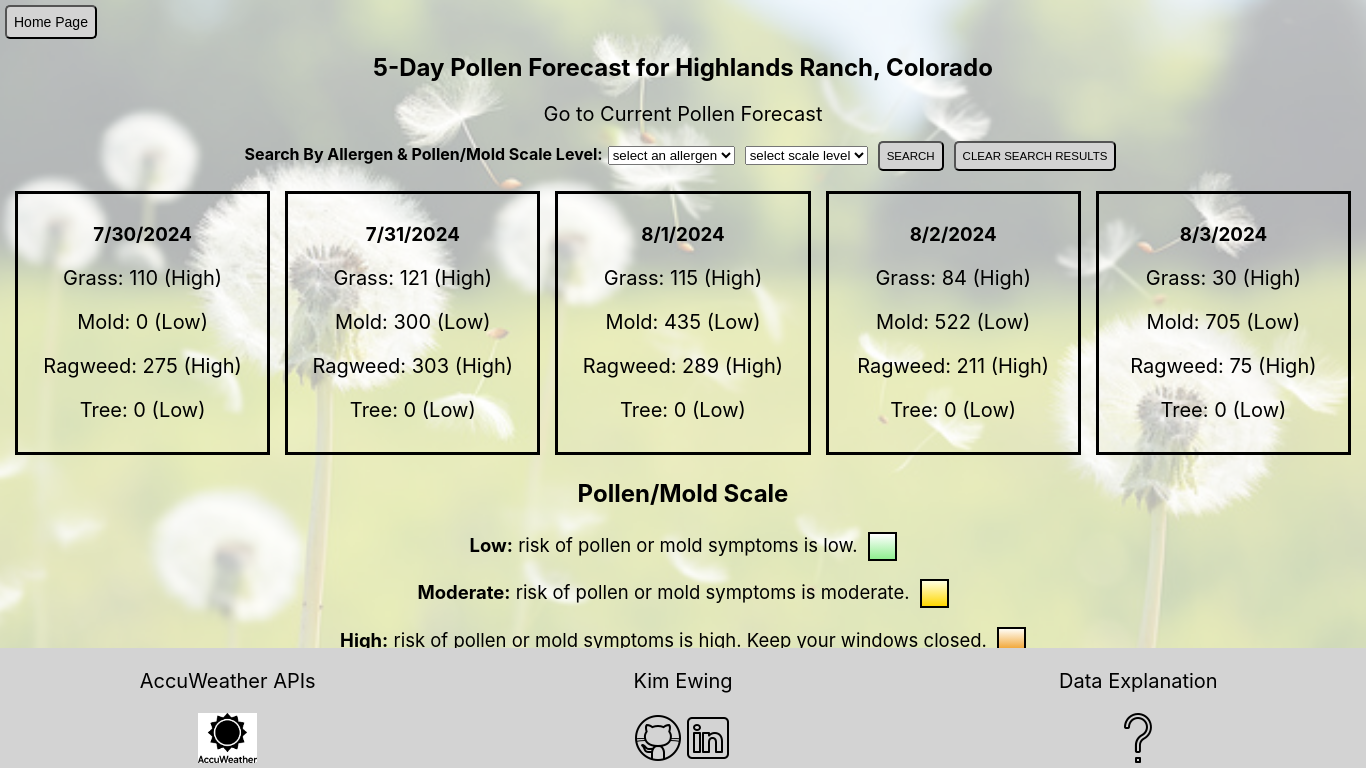
Scenario: 5-Day Pollen Forecast Page Tests › should clear the search results when the clear search button is clicked and display five pollen forecast cards
Select "Grass" in the dropdown with class "allergen-drop-down" at [672, 156], box [608,146,735,165]
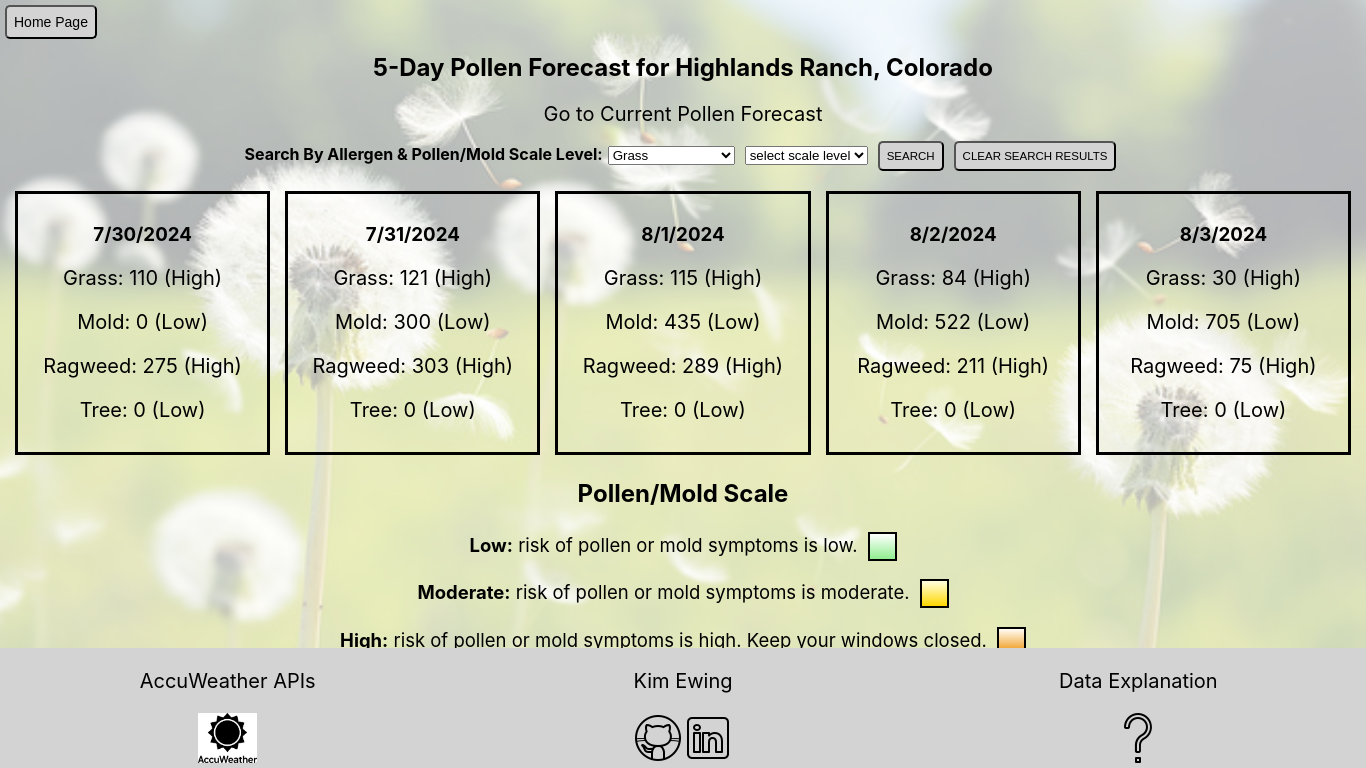
Select "High" in the 2nd dropdown at [807, 156], box [745,146,868,165]
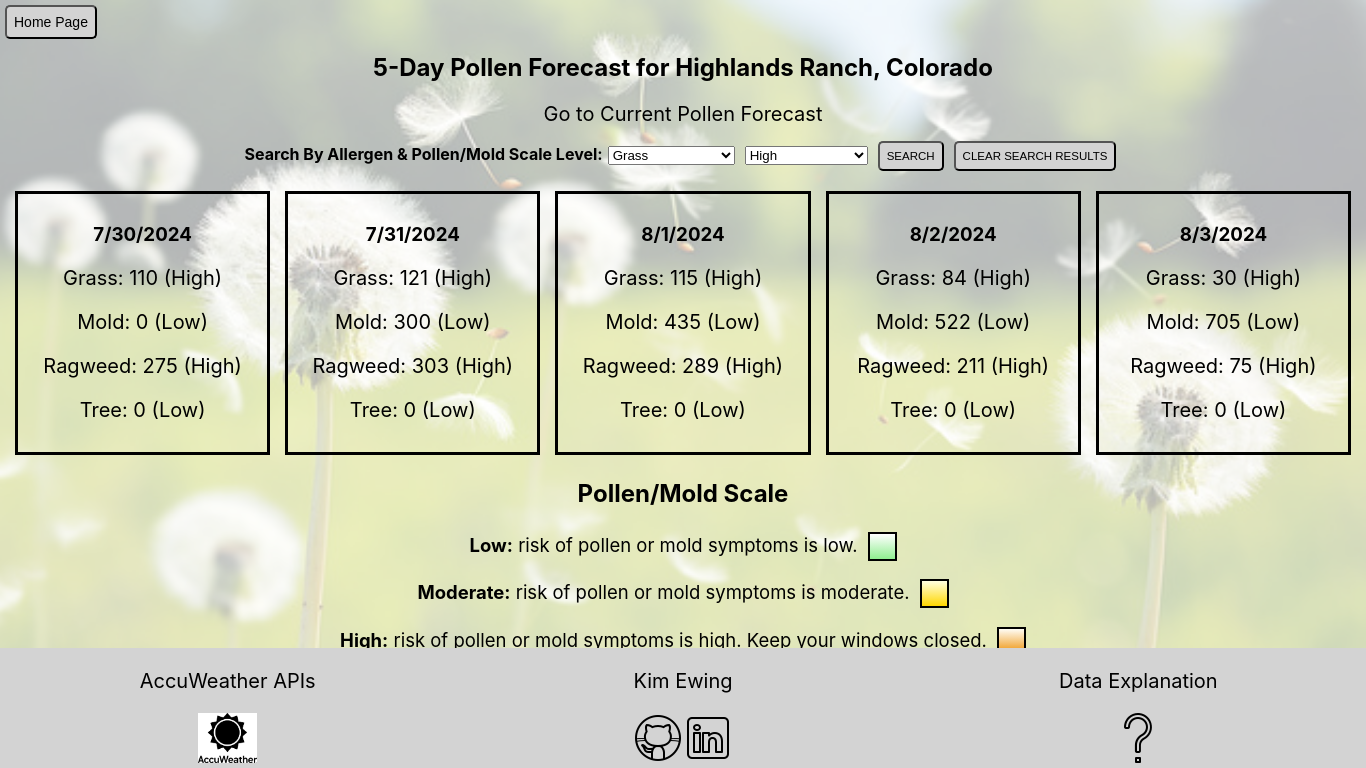
Click the button with class "search-button".
click(911, 156)  # box [878,141,944,171]
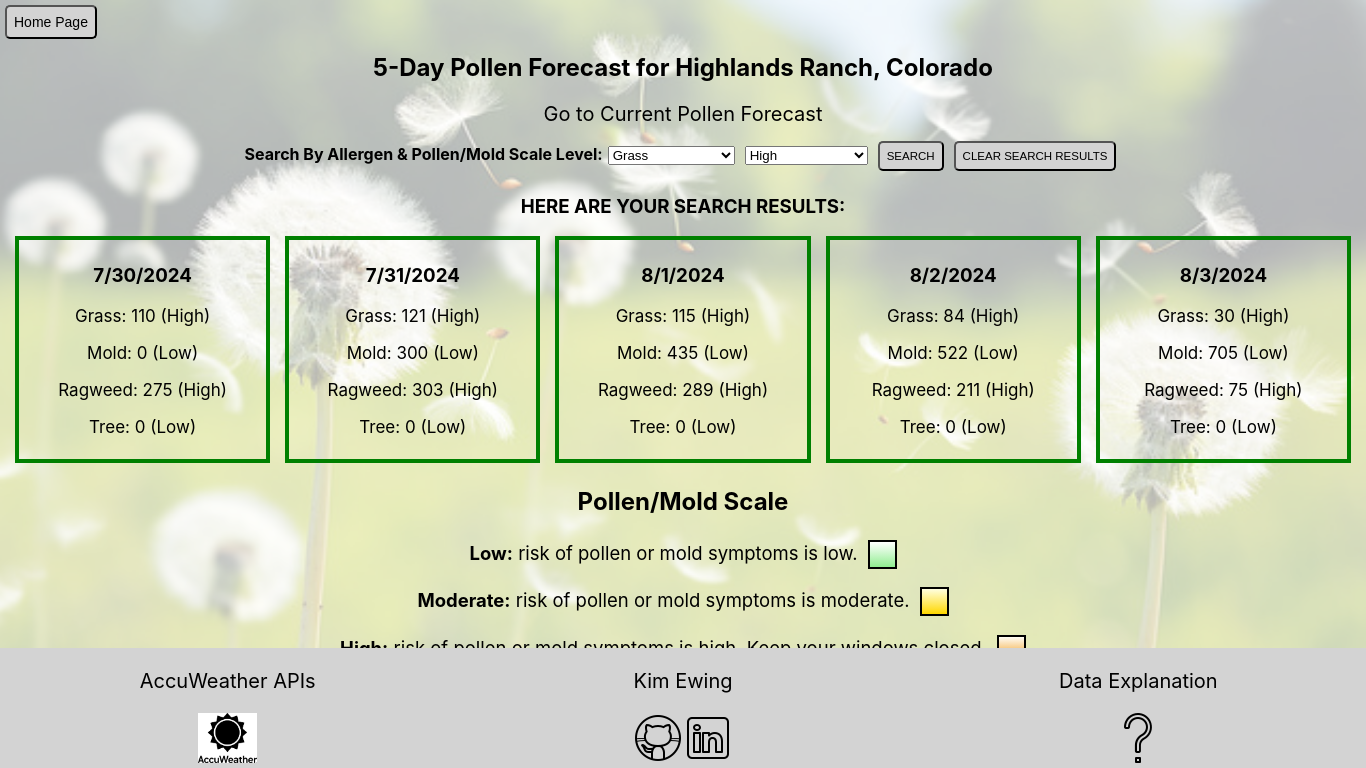
Expected: the number of elements with class "search-result-pollen-forecast-card" is 5, [15,236,270,463]; [285,236,540,463]; [555,236,811,463]; [826,236,1081,463]; [1096,236,1351,463]
Click the button with class "clear-search-results-button".
click(1036, 156)  # box [954,141,1117,171]
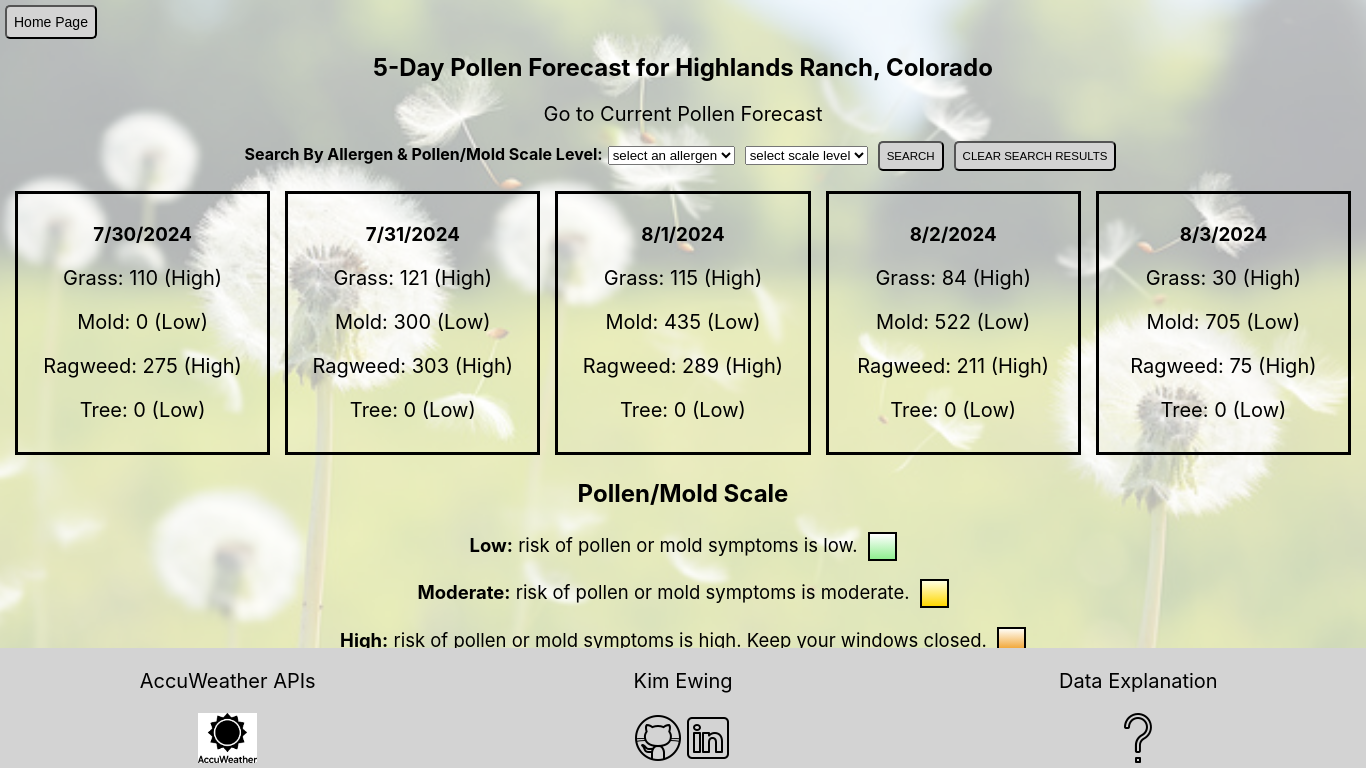
Expected: the number of elements with class "five-day-pollen-forecast-card" is 5, [15,191,270,455]; [285,191,540,455]; [555,191,811,455]; [826,191,1081,455]; [1096,191,1351,455]
